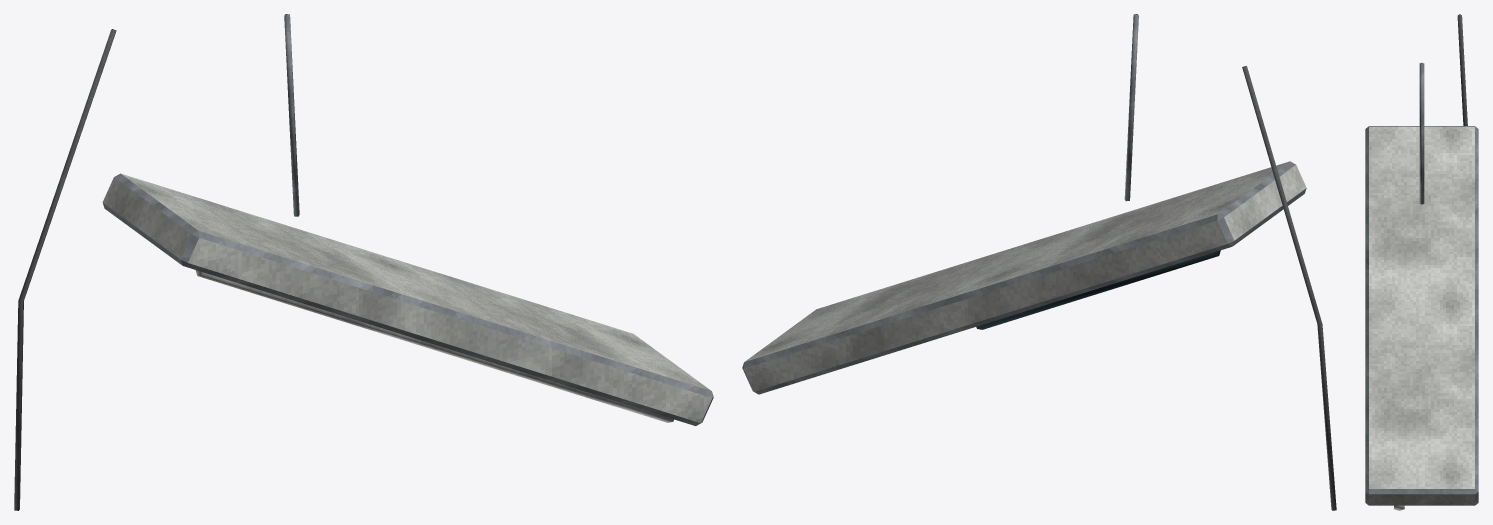
The model's file is Lab_FluoroHanging.fbx.
3 renders of one model, left to right at view 1: azimuth 30°, elevation 25°; view 2: azimuth 150°, elevation 25°; view 3: azimuth 270°, elevation 25°, orthographic. The views are drawn at different scales.
Parts seen in each view (by area): view 1: Lab_FluoroHanging; view 2: Lab_FluoroHanging; view 3: Lab_FluoroHanging.
Part boxes in pixels (left/top/right/bottom): Lab_FluoroHanging: left=14, top=14, right=713, bottom=510; Lab_FluoroHanging: left=742, top=14, right=1336, bottom=510; Lab_FluoroHanging: left=1365, top=14, right=1478, bottom=510.
Size of the model in its own units: 1.31 by 0.9576 by 0.3.
